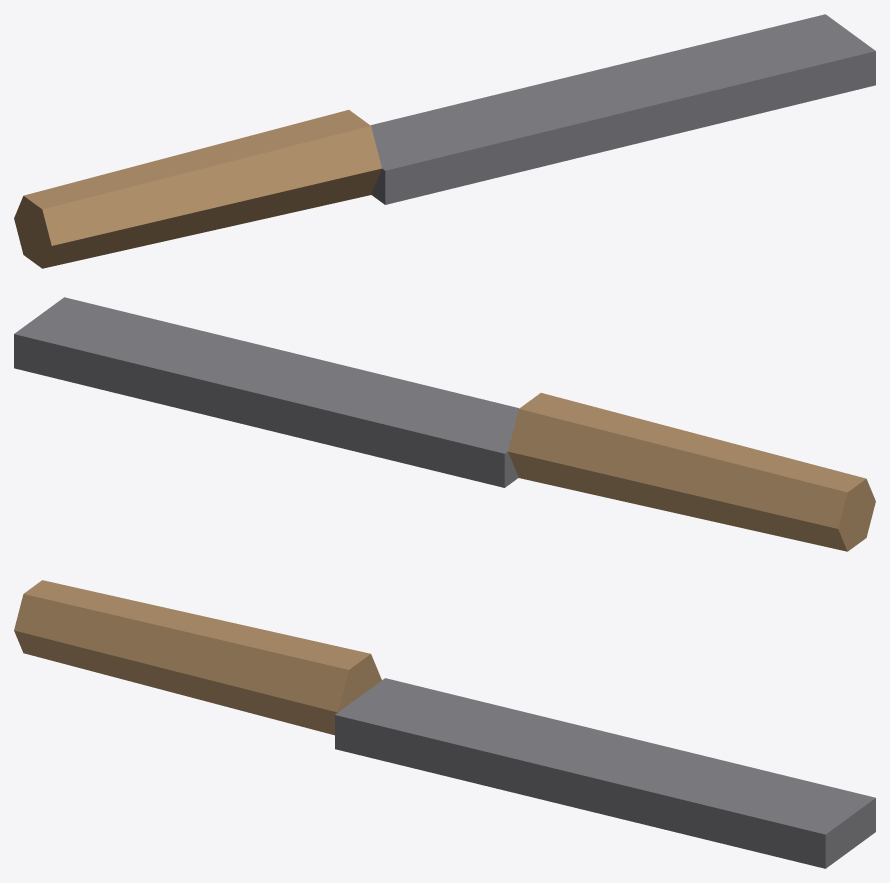
File: prop-last-rasp-lf1.fbx
The picture shows the model from 3 angles, top to bottom: view 1: azimuth 30°, elevation 25°; view 2: azimuth 150°, elevation 25°; view 3: azimuth 330°, elevation 25°; orthographic projection.
Parts seen in each view (by area): view 1: prop-last-rasp-lf1; view 2: prop-last-rasp-lf1; view 3: prop-last-rasp-lf1.
Part boxes in pixels (x1,y1,x2,y2): prop-last-rasp-lf1: [14, 14, 875, 268]; prop-last-rasp-lf1: [14, 297, 875, 551]; prop-last-rasp-lf1: [14, 580, 875, 868].
Size of the model in its own units: 30 by 2.42 by 3.2.
